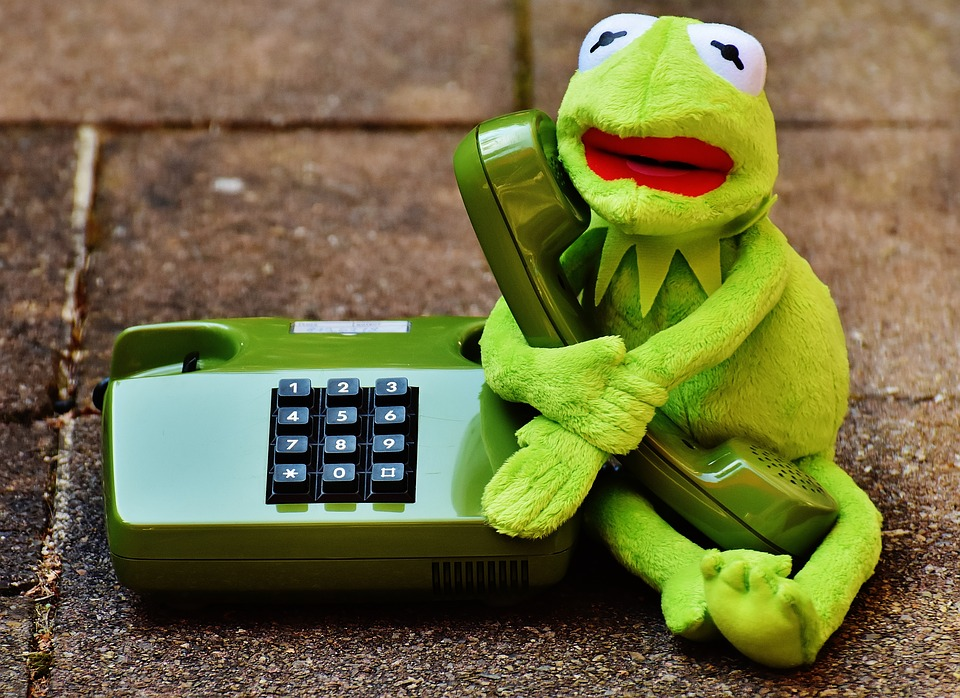kermit: (551, 9, 782, 236)
